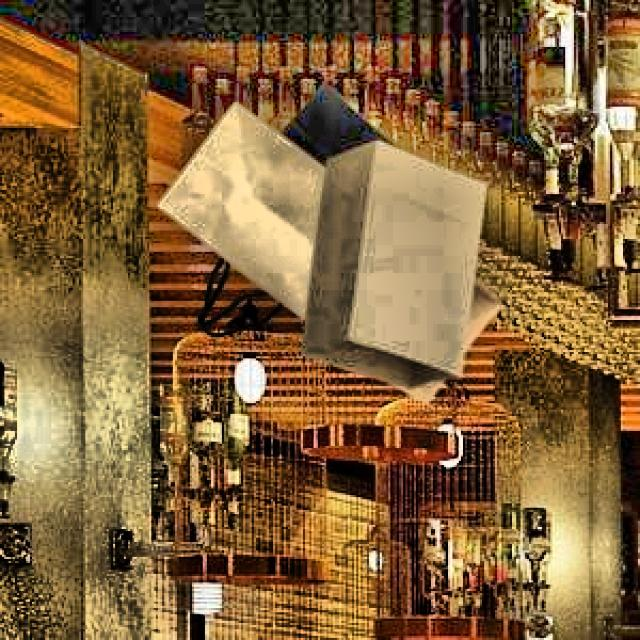Paper-bag: (136, 92, 525, 411), (288, 139, 492, 408)
